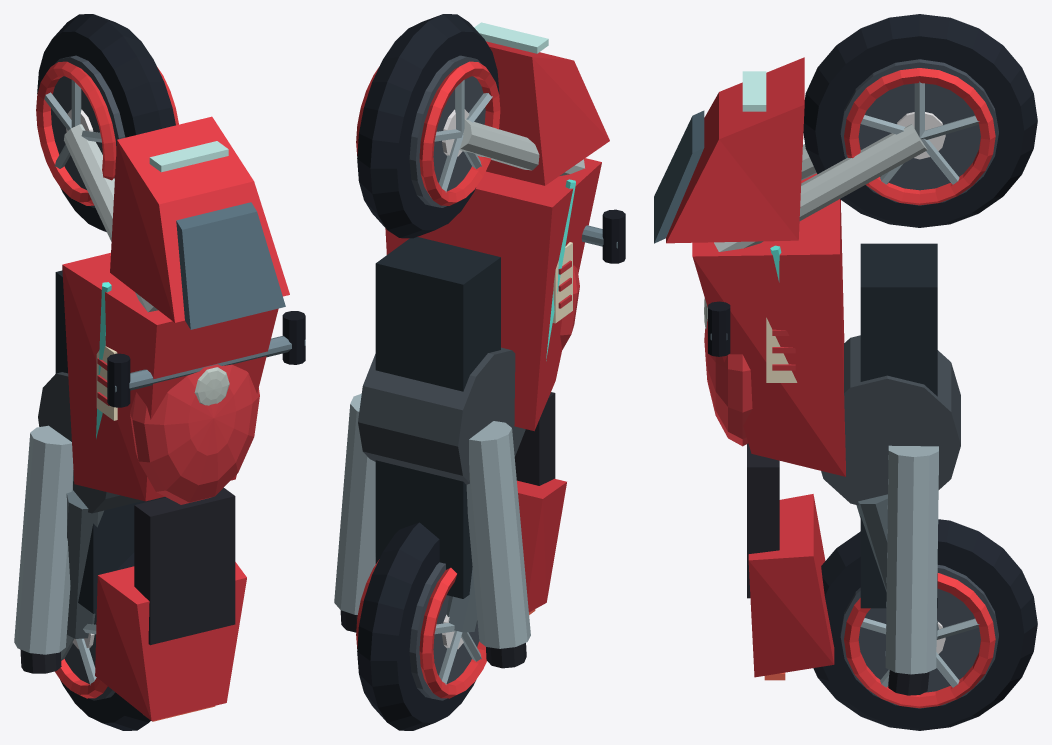
3 views of the same model, side by side, from view 1: azimuth 30°, elevation 25°; view 2: azimuth 150°, elevation 25°; view 3: azimuth 270°, elevation 25° (orthographic). The views are drawn at different scales.
Visible parts, largest first — view 1: NavigationAvatar; view 2: NavigationAvatar; view 3: NavigationAvatar.
Part boxes in pixels (left/top/right/bottom): NavigationAvatar: left=14, top=14, right=305, bottom=730; NavigationAvatar: left=334, top=14, right=625, bottom=730; NavigationAvatar: left=654, top=14, right=1037, bottom=730.
Size of the model in its own units: 0.78 by 2.68 by 1.3.
